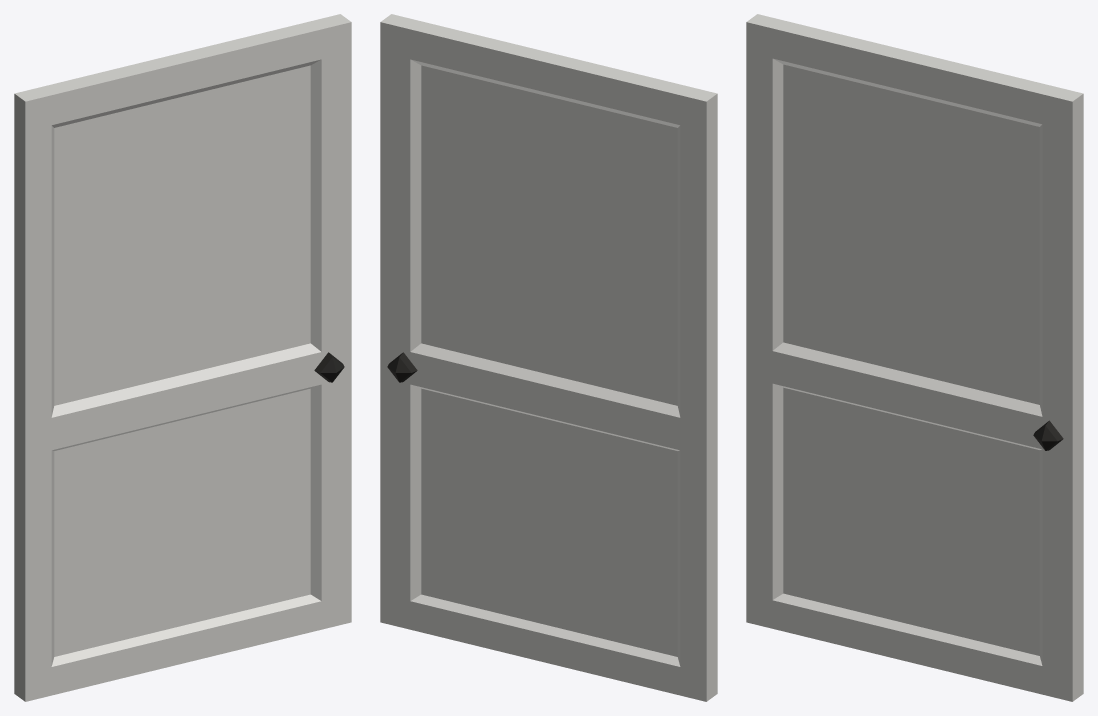
The model's file is Door_2C.fbx.
3 renders of one model, left to right at view 1: azimuth 30°, elevation 25°; view 2: azimuth 150°, elevation 25°; view 3: azimuth 330°, elevation 25°, orthographic.
Visible parts, largest first — view 1: polySurface1645; view 2: polySurface1645; view 3: polySurface1645.
Part boxes in pixels (x1,y1,x2,y2): polySurface1645: [14, 14, 351, 701]; polySurface1645: [380, 14, 717, 701]; polySurface1645: [746, 14, 1083, 701].
Bounding box in the file's own units: 1.7 × 2.99 × 0.243.
Materials: 1 (1 with a texture image).
